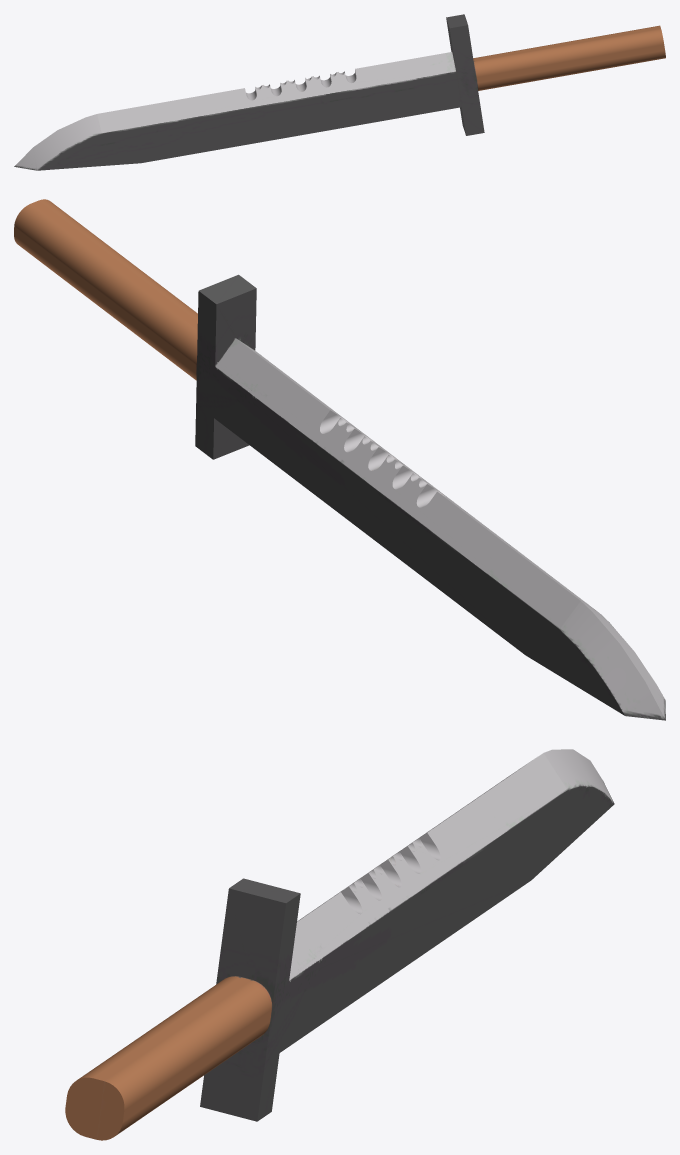
3 views of the same model, one above another, from view 1: azimuth 30°, elevation 25°; view 2: azimuth 150°, elevation 25°; view 3: azimuth 270°, elevation 25° (orthographic). The views are drawn at different scales.
Parts seen in each view (by area): view 1: node_id4; view 2: node_id4; view 3: node_id4.
Part boxes in pixels (box(x1,y1,x2,y2)): node_id4: box(14, 14, 665, 170); node_id4: box(14, 199, 665, 720); node_id4: box(65, 749, 614, 1140).
Bounding box in the file's own units: 0.4716 × 0.1049 × 0.2126.
Materials: 1 (1 with a texture image).
